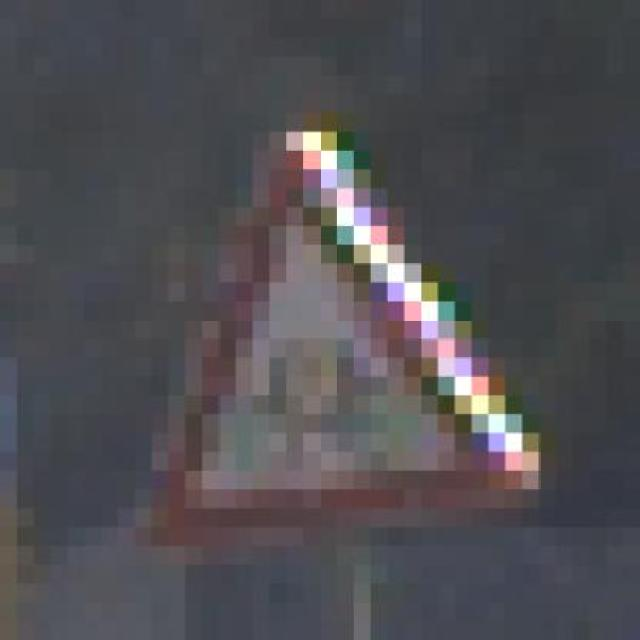CYCLE ROUTE AHEAD WARNING: (84, 112, 539, 546)
